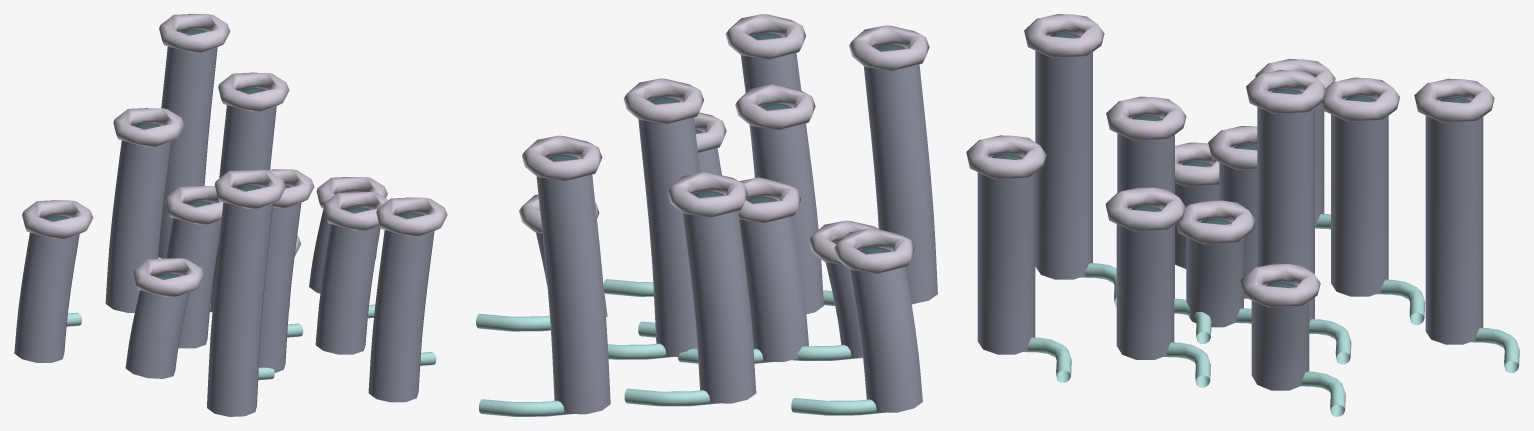
File: bio_thermal_colony_11_far.glb
The picture shows the model from 3 angles, left to right: view 1: azimuth 30°, elevation 25°; view 2: azimuth 150°, elevation 25°; view 3: azimuth 270°, elevation 25°; orthographic projection. The views are drawn at different scales.
Visible parts, largest first — view 1: Chimney biofilm.007, Chimney biofilm.010, Chimney biofilm.006, Chimney biofilm.011, Chimney biofilm.005, Chimney biofilm.009, Chimney biofilm.002, Chimney biofilm.004, Chimney biofilm.001, Chimney biofilm.003, Open vent rim.010, Open vent rim.007 (+10 smaller); view 2: Chimney biofilm.011, Chimney biofilm.007, Chimney biofilm.006, Chimney biofilm.003, Chimney biofilm.009, Chimney biofilm.001, Chimney biofilm.002, Open vent rim.007, Open vent rim.010, Open vent rim.006, Open vent rim.002, Open vent rim.011 (+16 smaller); view 3: Chimney biofilm.011, Chimney biofilm.007, Chimney biofilm.010, Chimney biofilm.006, Chimney biofilm.003, Chimney biofilm.005, Chimney biofilm.008, Chimney biofilm, Chimney biofilm.002, Open vent rim.010, Open vent rim.005, Open vent rim.002 (+20 smaller).
Boxes of the visible parts, x1,y1,x2,y2 form: Chimney biofilm.007: (207, 202, 272, 416); Chimney biofilm.010: (368, 230, 434, 402); Chimney biofilm.006: (105, 140, 171, 312); Chimney biofilm.011: (158, 46, 217, 258); Chimney biofilm.005: (315, 224, 380, 354); Chimney biofilm.009: (14, 232, 79, 362); Chimney biofilm.002: (259, 203, 301, 372); Chimney biofilm.004: (125, 290, 189, 378); Chimney biofilm.001: (166, 218, 221, 348); Chimney biofilm.003: (210, 105, 276, 311); Open vent rim.010: (376, 197, 447, 236); Open vent rim.007: (214, 170, 285, 208); Chimney biofilm.011: (536, 174, 610, 414); Chimney biofilm.007: (863, 47, 937, 304); Chimney biofilm.006: (682, 194, 756, 403); Chimney biofilm.003: (638, 100, 699, 356); Chimney biofilm.009: (850, 247, 922, 412); Chimney biofilm.001: (739, 199, 808, 361); Chimney biofilm.002: (750, 106, 823, 314); Open vent rim.007: (849, 25, 929, 70); Open vent rim.010: (725, 14, 805, 59); Open vent rim.006: (667, 172, 747, 217); Open vent rim.002: (735, 84, 815, 129); Open vent rim.011: (522, 135, 602, 181); Chimney biofilm.011: (1425, 100, 1483, 344); Chimney biofilm.007: (1035, 36, 1092, 279); Chimney biofilm.010: (977, 157, 1035, 354); Chimney biofilm.006: (1331, 99, 1388, 296); Chimney biofilm.003: (1257, 92, 1314, 322); Chimney biofilm.005: (1116, 209, 1174, 359); Chimney biofilm.008: (1251, 285, 1309, 390); Chimney biofilm: (1186, 222, 1243, 327); Chimney biofilm.002: (1117, 119, 1174, 298); Open vent rim.010: (966, 135, 1046, 179); Open vent rim.005: (1105, 187, 1185, 231); Open vent rim.002: (1106, 96, 1186, 140).
Size of the model in its own units: 1.68 by 0.9903 by 1.92.
